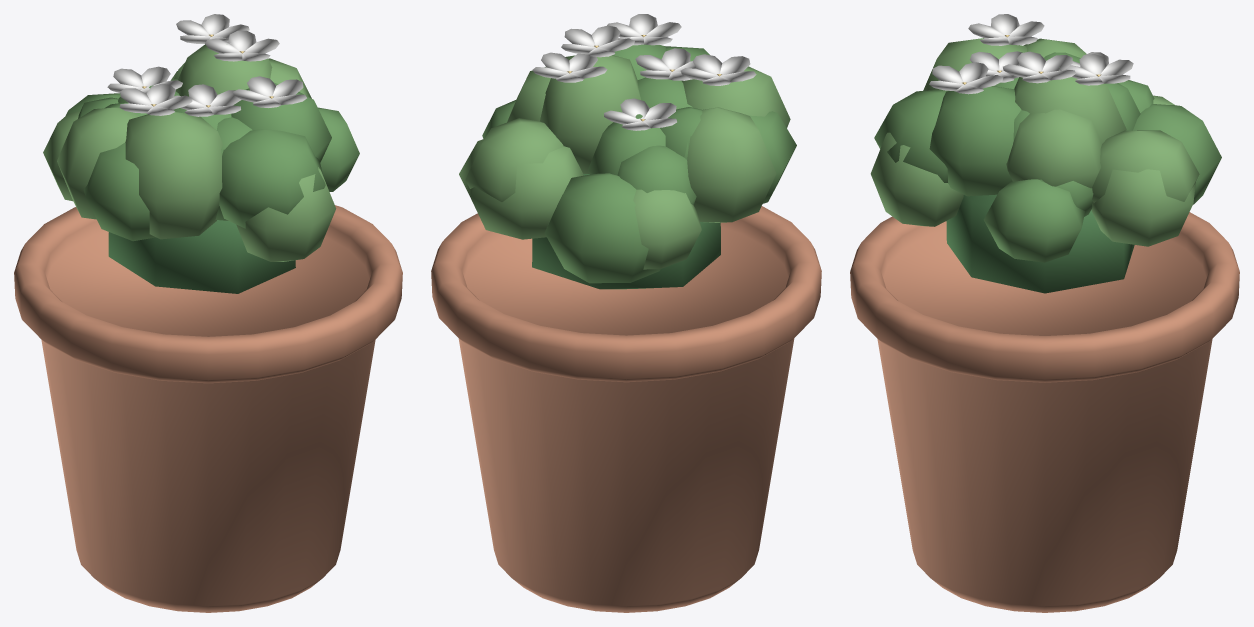
File: potflower.glb
3 renders of one model, left to right at view 1: azimuth 30°, elevation 25°; view 2: azimuth 150°, elevation 25°; view 3: azimuth 270°, elevation 25°, orthographic.
Parts seen in each view (by area): view 1: Pot | terracotta, Foliage | fresh, Foliage | garden, Foliage | deep, Bloom | head 6, Bloom | head 2, Bloom | head 3, Bloom | head 4, Bloom | head 5, Bloom | head 1; view 2: Pot | terracotta, Foliage | fresh, Foliage | garden, Foliage | deep, Bloom | head 6, Bloom | head 1, Bloom | head 3, Bloom | head 5, Bloom | head 2, Bloom | head 4; view 3: Pot | terracotta, Foliage | fresh, Foliage | garden, Foliage | deep, Bloom | head 6, Bloom | head 2, Bloom | head 3, Bloom | head 5, Bloom | head 4.
Boxes of the visible parts, x1,y1,x2,y2 form: Pot | terracotta: (14,205,402,612); Foliage | fresh: (43,44,336,261); Foliage | garden: (65,82,359,241); Foliage | deep: (108,220,295,293); Bloom | head 6: (119,83,192,115); Bloom | head 2: (233,76,306,107); Bloom | head 3: (205,30,279,61); Bloom | head 4: (174,84,241,116); Bloom | head 5: (176,14,249,43); Bloom | head 1: (107,66,182,93); Pot | terracotta: (431,206,821,612); Foliage | fresh: (459,55,790,269); Foliage | garden: (482,44,796,283); Foliage | deep: (532,174,720,289); Bloom | head 6: (680,54,756,85); Bloom | head 1: (604,98,676,130); Bloom | head 3: (561,25,634,57); Bloom | head 5: (532,52,607,82); Bloom | head 2: (607,14,681,45); Bloom | head 4: (635,48,696,80); Pot | terracotta: (850,212,1239,612); Foliage | fresh: (870,38,1199,246); Foliage | garden: (874,52,1221,262); Foliage | deep: (946,194,1134,293); Bloom | head 6: (968,14,1044,45); Bloom | head 2: (929,62,1003,94); Bloom | head 3: (1003,51,1076,83); Bloom | head 5: (1060,54,1133,85); Bloom | head 4: (969,51,1022,82).
Size of the model in its own units: 0.33 by 0.4777 by 0.33.
